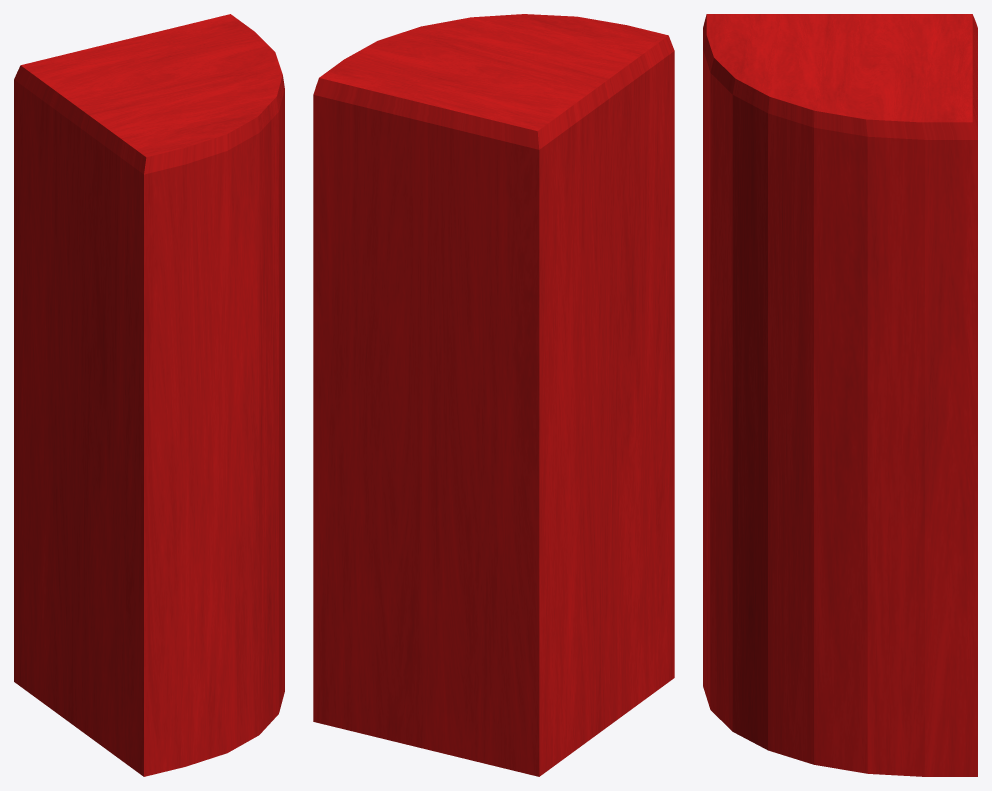
File: toy_cube.glb
3 renders of one model, left to right at view 1: azimuth 30°, elevation 25°; view 2: azimuth 150°, elevation 25°; view 3: azimuth 270°, elevation 25°, orthographic. The views are drawn at different scales.
Parts seen in each view (by area): view 1: cube; view 2: cube; view 3: cube.
Part boxes in pixels (x1=…): cube: x1=14, y1=14, x2=284, y2=776; cube: x1=313, y1=14, x2=674, y2=776; cube: x1=703, y1=14, x2=977, y2=776.
Size of the model in its own units: 0.3751 by 1.02 by 0.389.
Materials: 1 (1 with a texture image).
